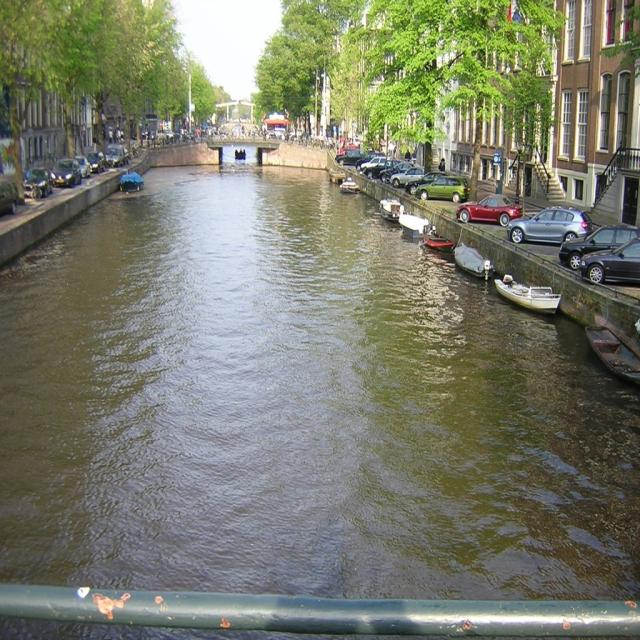car: (504, 199, 587, 239), (448, 187, 518, 221)
